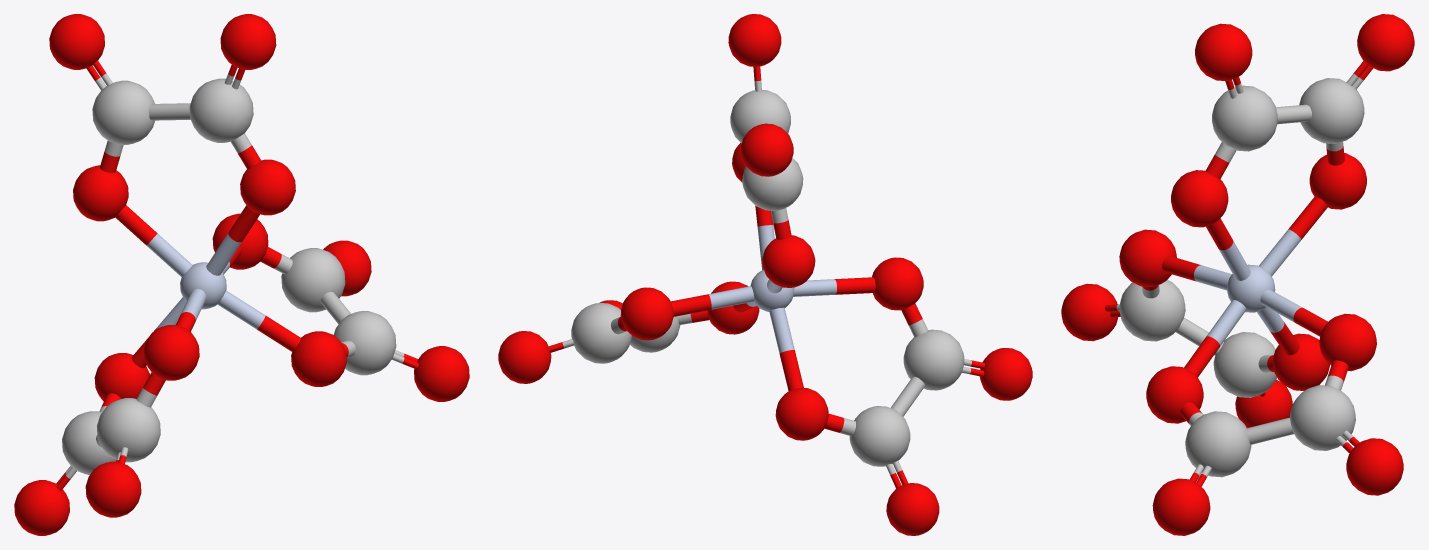
Rendered from Phosphate.fbx.
3 views of the same model, side by side, from view 1: azimuth 30°, elevation 25°; view 2: azimuth 150°, elevation 25°; view 3: azimuth 270°, elevation 25° (orthographic). The views are drawn at different scales.
Parts seen in each view (by area): view 1: Component_67, Component_68, Component_66, Component_64, Component_63, Component_73, Component_76, Component_75, Component_77, Component_69, Component_78, Component_72 (+14 smaller); view 2: Component_65, Component_66, Component_64, Component_77, Component_76, Component_74, Component_81, Component_72, Component_70, Component_73, Component_79, Component_75 (+12 smaller); view 3: Component_64, Component_67, Component_63, Component_68, Component_65, Component_66, Component_69, Component_70, Component_76, Component_77, Component_78, Component_81 (+22 smaller).
Boxes of the visible parts, x1,y1,x2,y2 form: Component_67: (189, 78, 253, 142); Component_68: (92, 80, 154, 144); Component_66: (96, 398, 160, 462); Component_64: (281, 248, 345, 312); Component_63: (333, 311, 396, 375); Component_73: (85, 461, 141, 517); Component_76: (220, 14, 276, 69); Component_75: (144, 325, 199, 380); Component_77: (49, 14, 104, 69); Component_69: (414, 346, 469, 401); Component_78: (240, 159, 295, 215); Component_72: (14, 480, 69, 535); Component_65: (849, 406, 910, 466); Component_66: (903, 329, 964, 390); Component_64: (571, 303, 631, 363); Component_77: (740, 123, 793, 176); Component_76: (728, 14, 781, 66); Component_74: (775, 387, 828, 440); Component_81: (620, 287, 673, 340); Component_72: (886, 483, 939, 535); Component_70: (498, 331, 551, 383); Component_73: (979, 348, 1032, 400); Component_79: (762, 235, 815, 287); Component_75: (872, 257, 923, 310); Component_64: (1290, 385, 1355, 450); Component_67: (1212, 85, 1277, 151); Component_63: (1185, 411, 1251, 477); Component_68: (1299, 78, 1364, 143); Component_65: (1213, 332, 1276, 397); Component_66: (1119, 280, 1185, 341); Component_69: (1152, 478, 1210, 535); Component_70: (1346, 438, 1403, 495); Component_76: (1195, 23, 1252, 81); Component_77: (1357, 14, 1414, 71); Component_78: (1171, 170, 1228, 227); Component_81: (1319, 313, 1376, 371).
Size of the model in its own units: 2.44 by 2.69 by 1.73.
